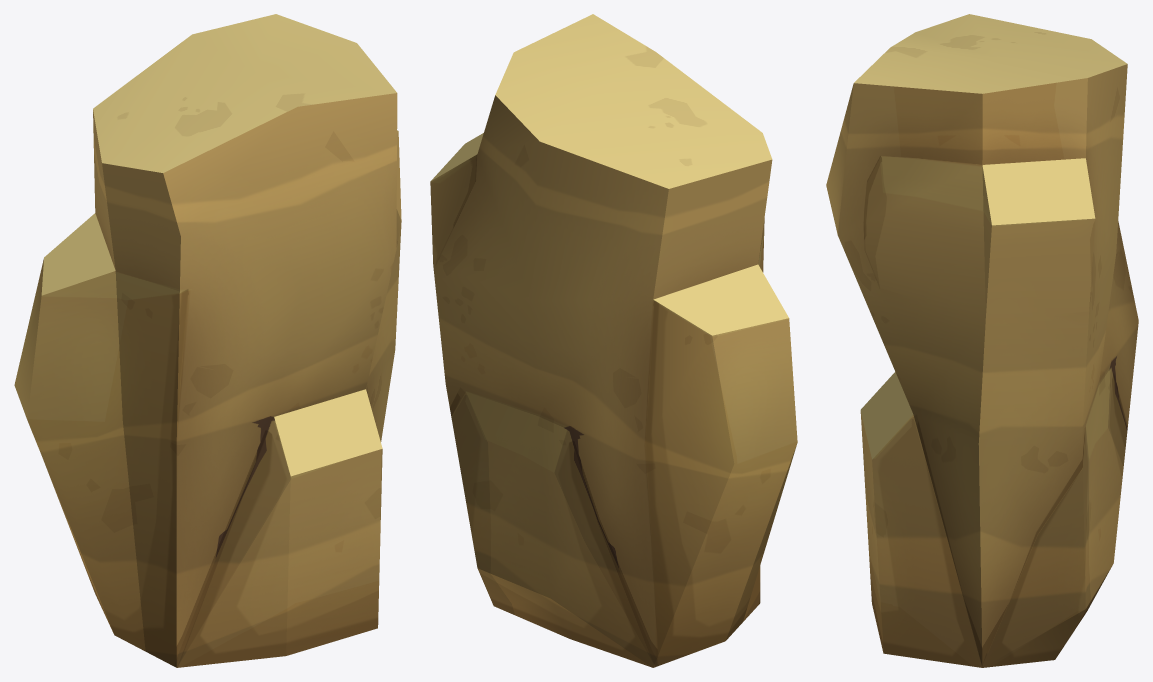
Rendered from F_W_O_rock_008.fbx.
3 views of the same model, side by side, from view 1: azimuth 30°, elevation 25°; view 2: azimuth 150°, elevation 25°; view 3: azimuth 270°, elevation 25° (orthographic). The views are drawn at different scales.
Parts seen in each view (by area): view 1: F_W_O_rock_008; view 2: F_W_O_rock_008; view 3: F_W_O_rock_008.
Part boxes in pixels (x1=…): F_W_O_rock_008: x1=14, y1=14, x2=401, y2=667; F_W_O_rock_008: x1=430, y1=14, x2=797, y2=667; F_W_O_rock_008: x1=826, y1=14, x2=1138, y2=667.
Bounding box in the file's own units: 7.54 × 10.96 × 5.42.
